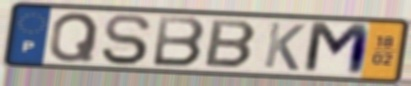B: (150, 14, 208, 69), (201, 17, 260, 70)
K: (261, 21, 308, 73)
M: (300, 20, 374, 78)
Q: (46, 10, 101, 64)
S: (98, 12, 155, 67)
